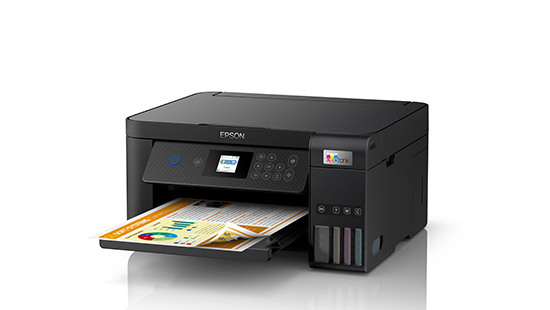printer: (98, 86, 433, 277)
